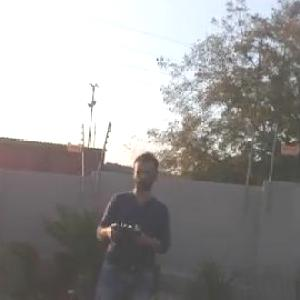follow: (82, 143, 177, 299)
